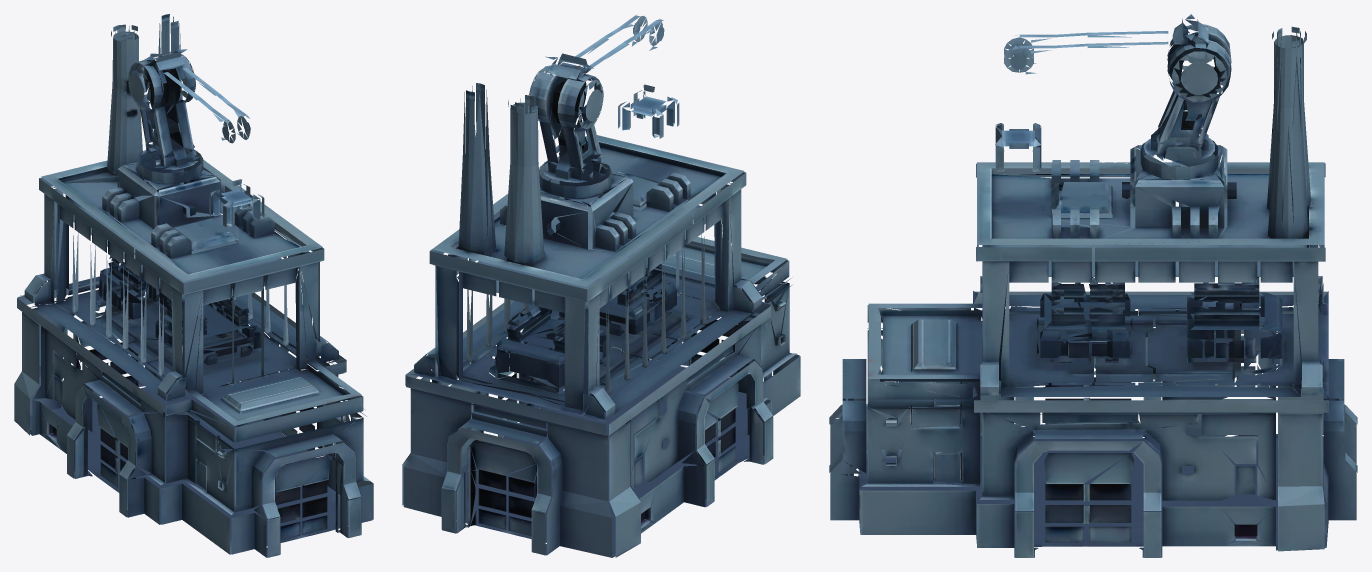
Rendered from forge_LOD2.glb.
The picture shows the model from 3 angles, left to right: view 1: azimuth 30°, elevation 25°; view 2: azimuth 150°, elevation 25°; view 3: azimuth 270°, elevation 25°; orthographic projection. The views are drawn at different scales.
Parts seen in each view (by area): view 1: forge_LOD2; view 2: forge_LOD2; view 3: forge_LOD2.
Part boxes in pixels (bbox=[...]): forge_LOD2: bbox=[14, 14, 373, 557]; forge_LOD2: bbox=[402, 15, 800, 557]; forge_LOD2: bbox=[829, 14, 1357, 557].
Size of the model in its own units: 0.5846 by 0.9711 by 0.9925.
1 material, 1 textured.
